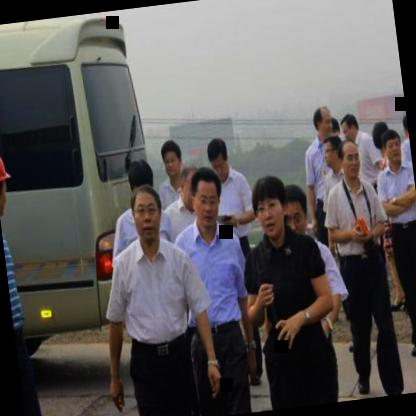head: (249, 168, 292, 243), (186, 164, 229, 230), (127, 180, 167, 246), (280, 184, 312, 242), (122, 156, 156, 201), (157, 134, 187, 183), (203, 132, 233, 180), (318, 125, 346, 172), (176, 162, 201, 207), (378, 127, 404, 170), (339, 138, 363, 184), (310, 103, 334, 144), (338, 108, 362, 146), (370, 119, 390, 156), (398, 106, 410, 144)
helmet: (0, 143, 13, 218)
